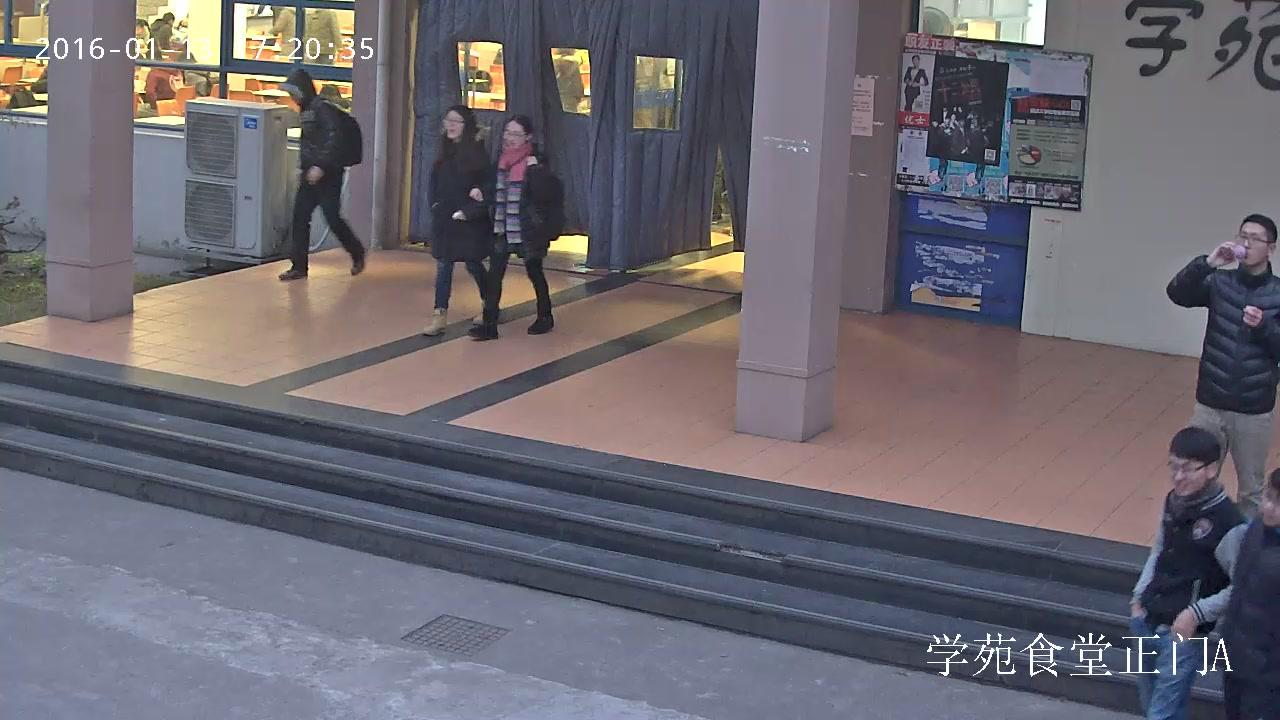person: (1131, 425, 1249, 720), (1168, 213, 1280, 516), (468, 114, 564, 338), (277, 69, 364, 279), (420, 105, 491, 337), (1221, 467, 1280, 720), (304, 6, 340, 66), (553, 48, 584, 113), (175, 53, 217, 97), (145, 67, 184, 113), (904, 55, 929, 110), (269, 8, 294, 57), (135, 19, 162, 60), (149, 12, 175, 50)
